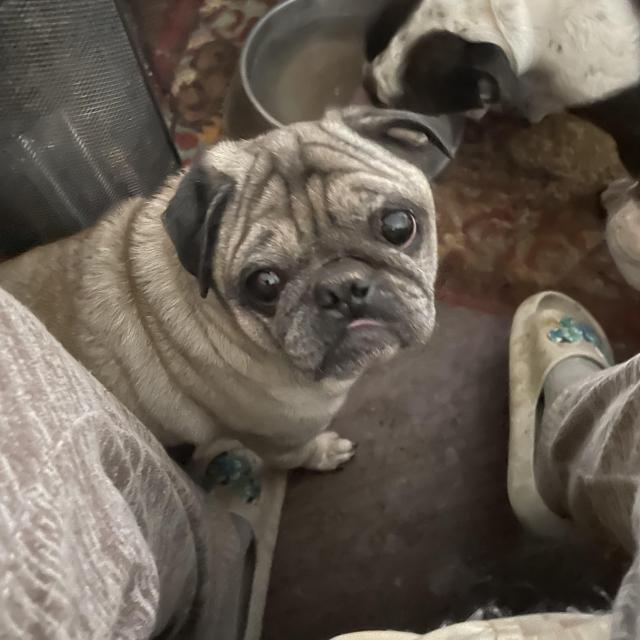pug_dog: (140, 94, 470, 412)
